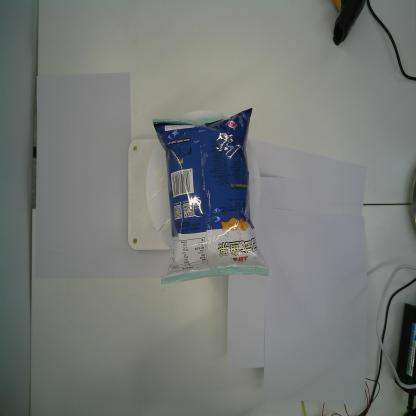Puffed Food: (153, 108, 269, 286)
